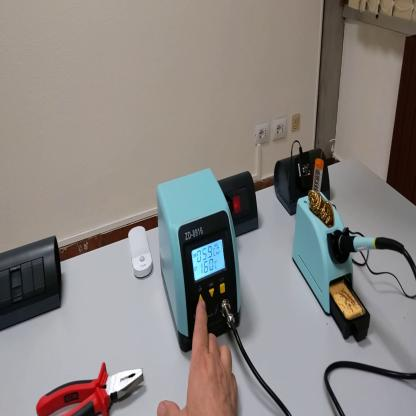hand: (158, 297, 239, 416)
pliers: (38, 361, 145, 415)
socket: (276, 147, 332, 217), (218, 164, 259, 239)
welder base: (293, 151, 371, 343)
welder probe tip: (341, 236, 406, 258)
welder station: (158, 170, 244, 355)
